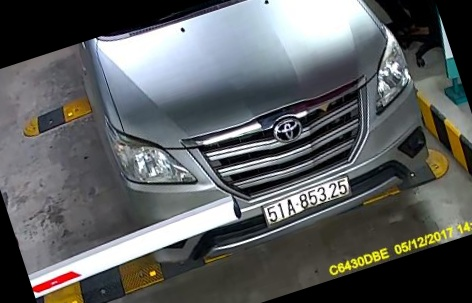plate: (251, 175, 360, 230)
